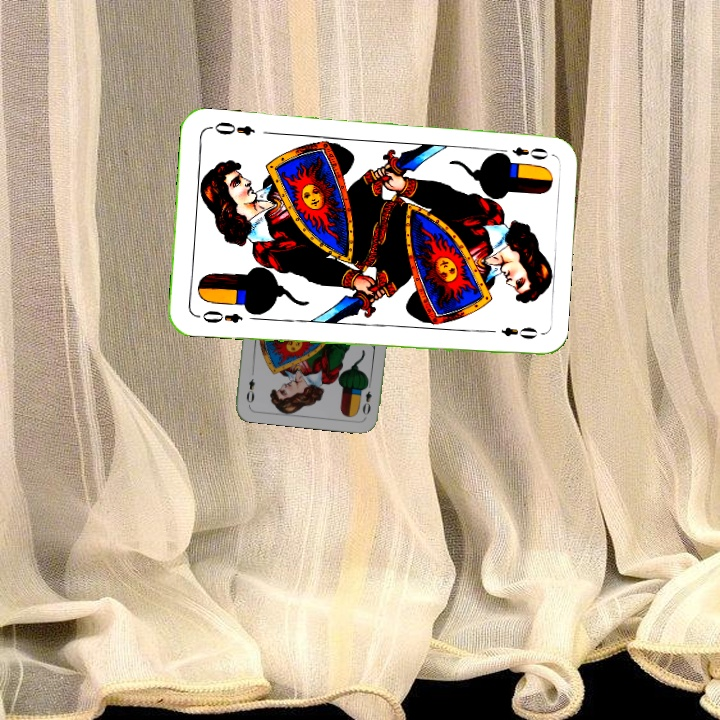EO: (494, 143, 551, 163), (198, 306, 246, 326), (358, 378, 374, 417)
